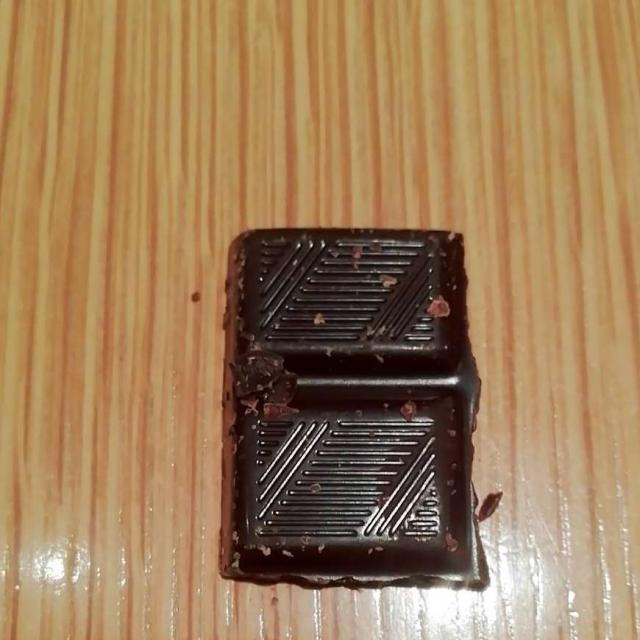chocolate: (228, 241, 488, 582)
